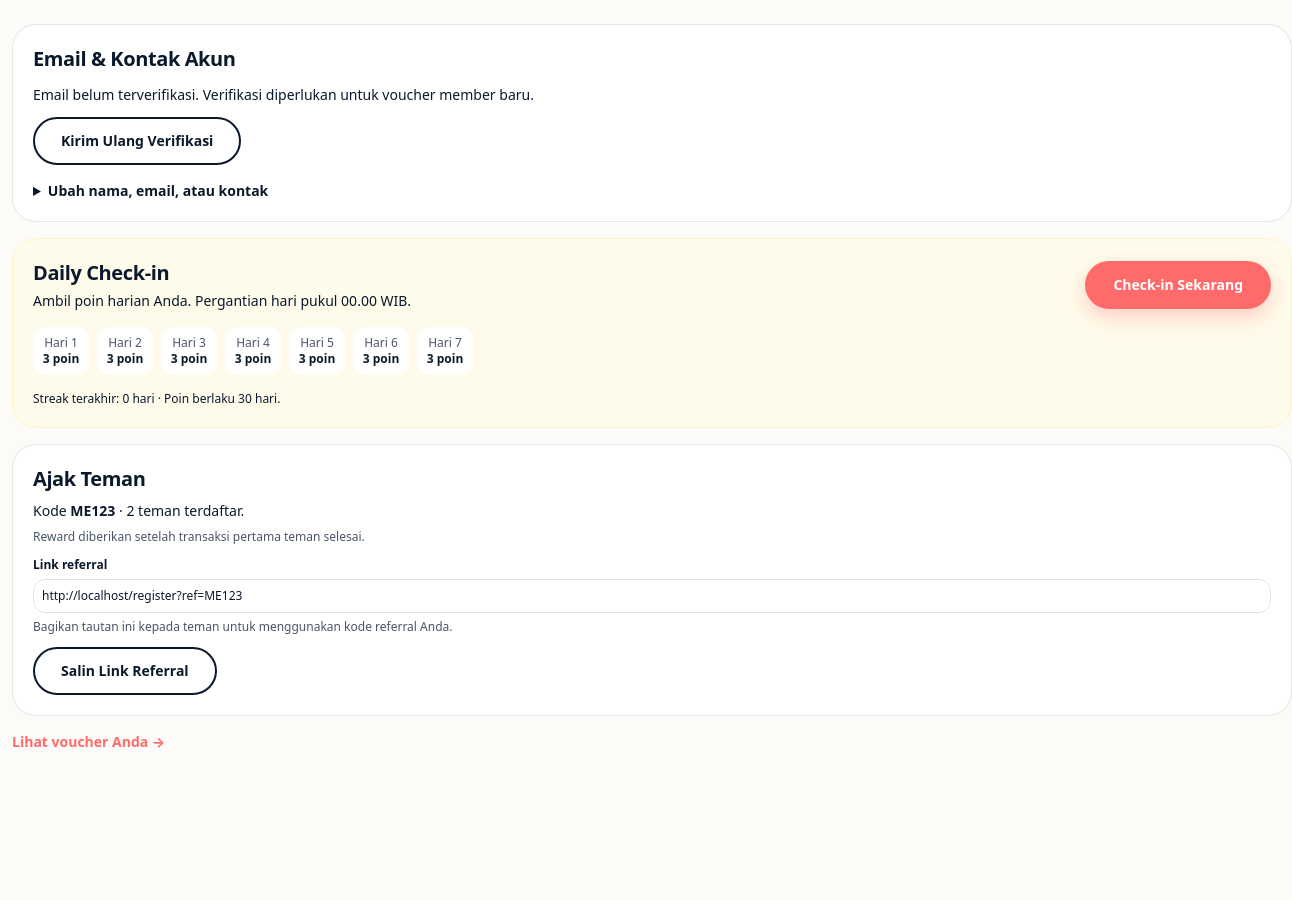
Test: check-in becomes unavailable after the server records today
This screenshot has width=1292, height=900.
Click the button "Check-in Sekarang" at coordinates (1178, 285), box [1085,261,1271,309]
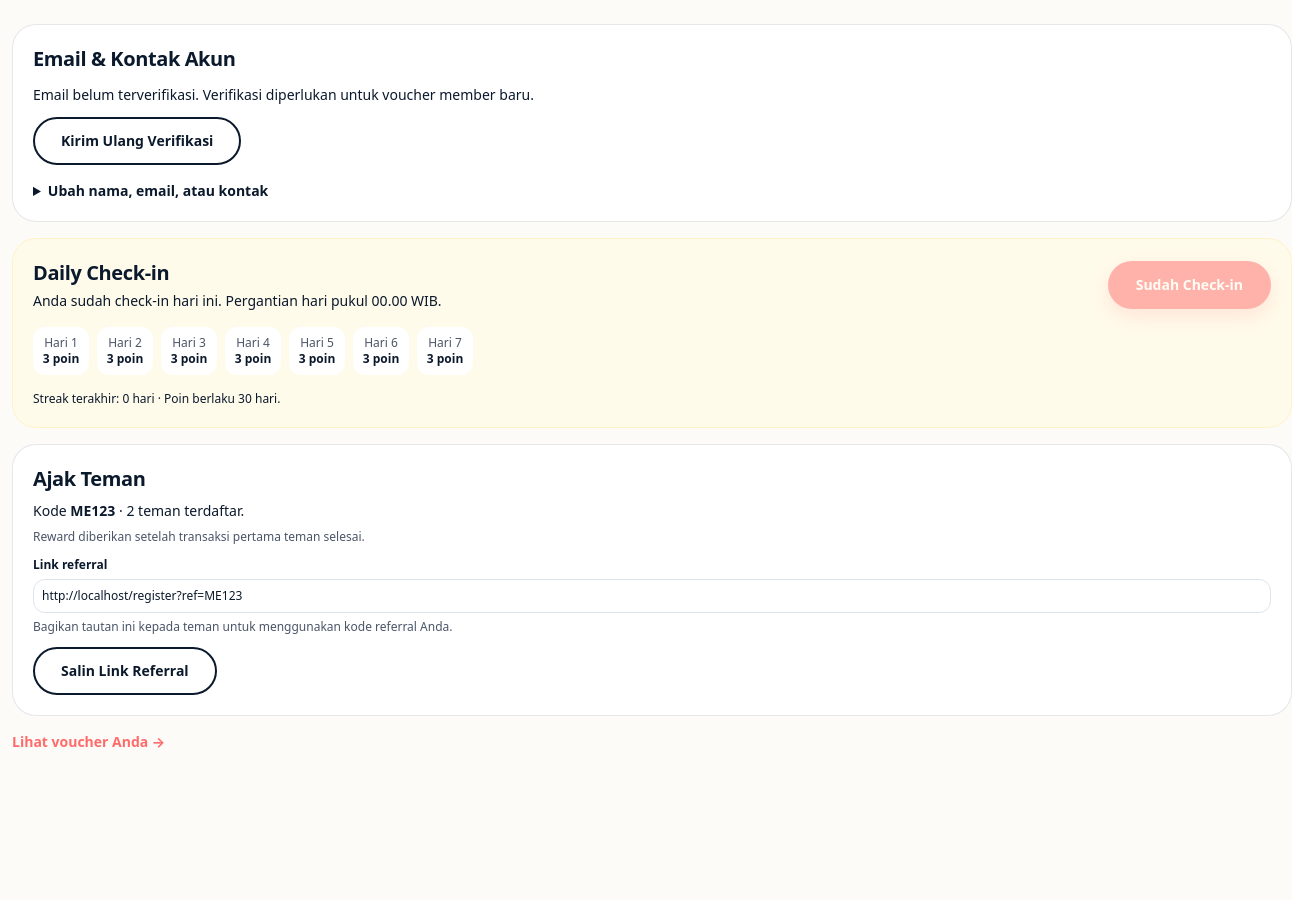
Check: the button "Sudah Check-in" is disabled, box [1108,261,1271,309]
